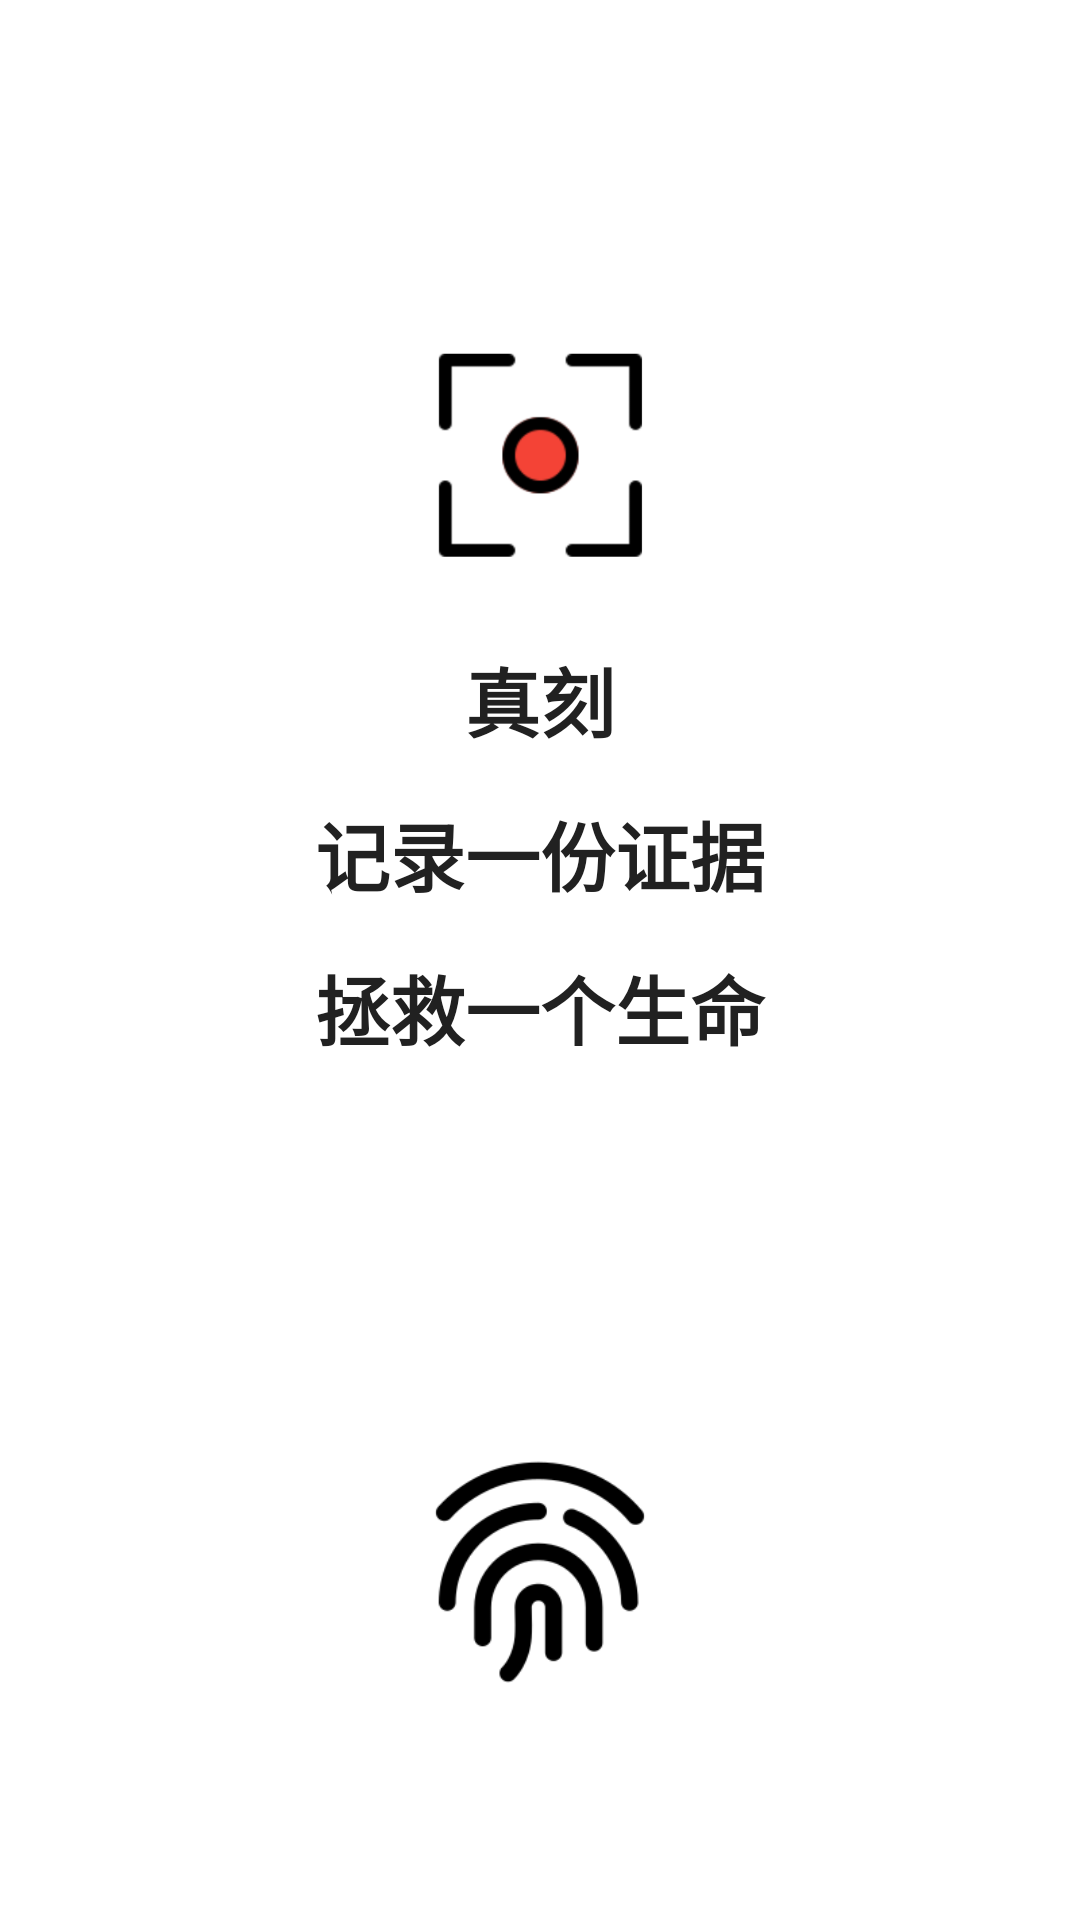

Point at icon controls on the screen. Image size 1080*1920, points as [x,y].
zhiwen: [540,1572]
